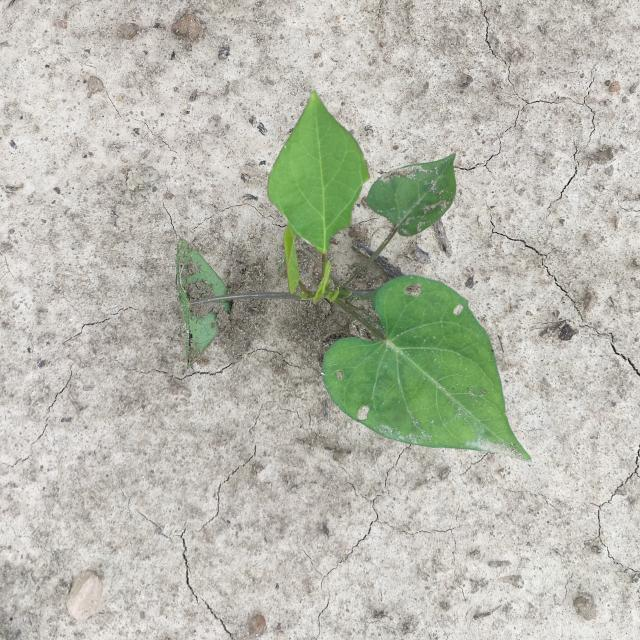MorningGlory: (176, 89, 532, 463)
